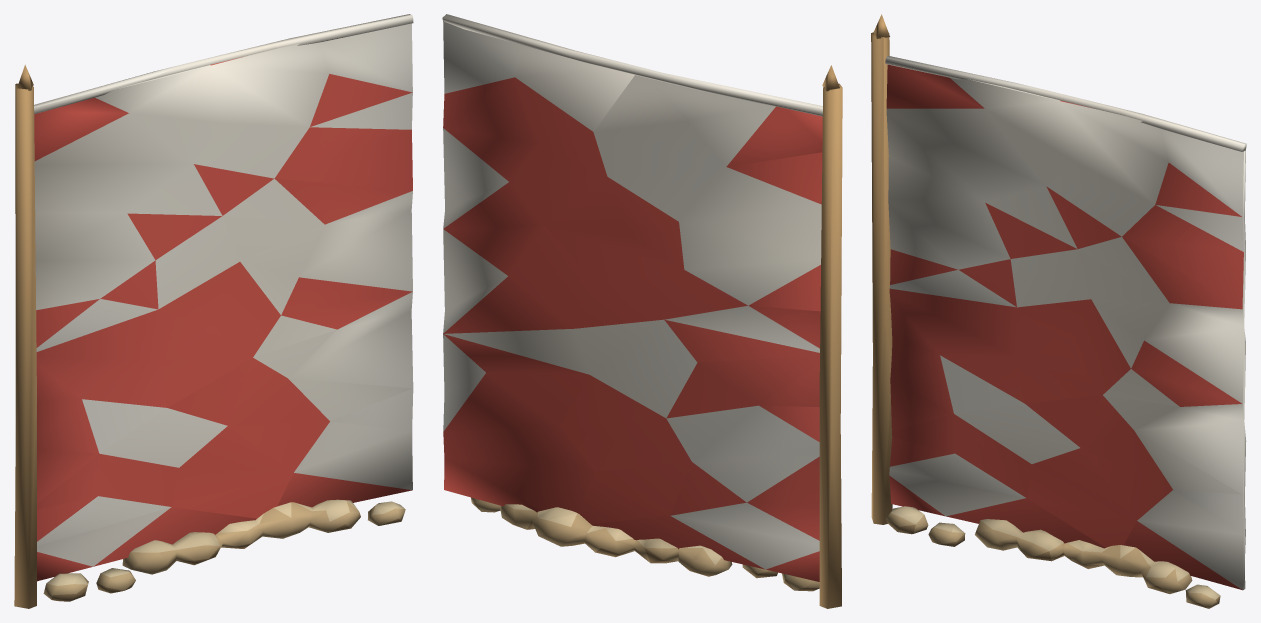
The model's file is shore_windbreak_lod2.glb.
3 renders of one model, left to right at view 1: azimuth 30°, elevation 25°; view 2: azimuth 150°, elevation 25°; view 3: azimuth 330°, elevation 25°, orthographic. The views are drawn at different scales.
Visible parts, largest first — view 1: shore_windbreak.001; view 2: shore_windbreak.001; view 3: shore_windbreak.001.
Boxes of the visible parts, <box> form: shore_windbreak.001: <box>14,14,413,608</box>; shore_windbreak.001: <box>442,14,842,608</box>; shore_windbreak.001: <box>871,14,1246,608</box>.
Size of the model in its own units: 20.57 by 26.67 by 3.29.
